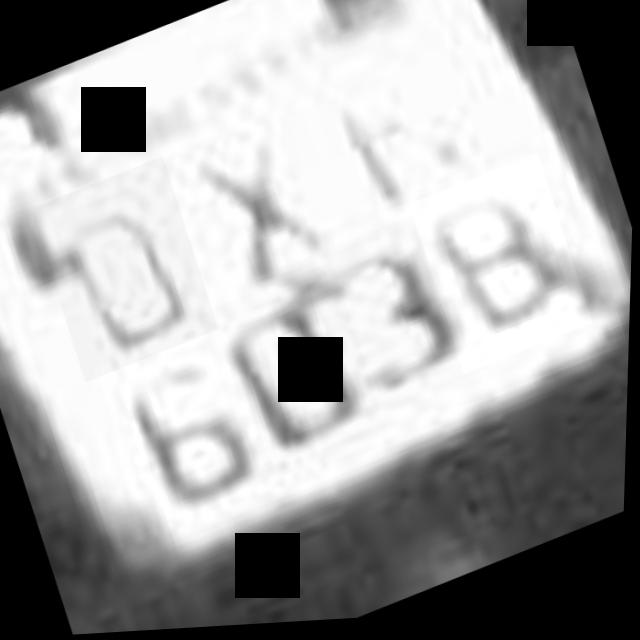0: (197, 261, 395, 493)
3: (296, 208, 495, 430)
6: (93, 316, 283, 543)
8: (406, 156, 599, 383)
O: (27, 154, 226, 386)
X: (160, 99, 354, 319)
